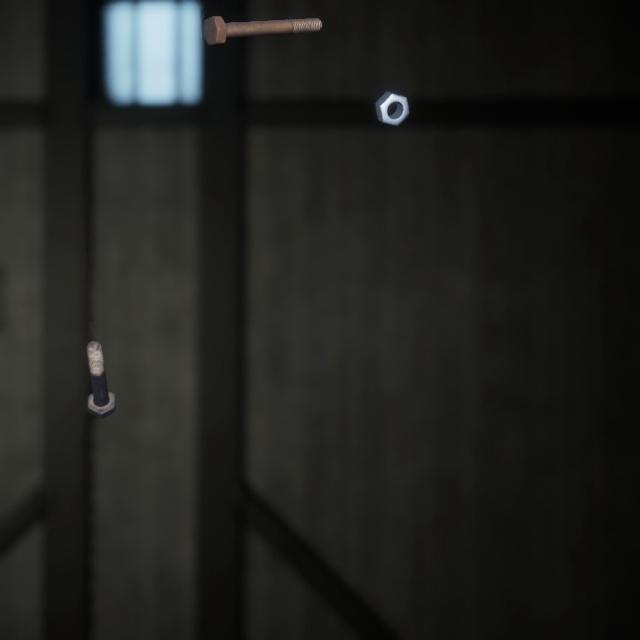bolt: (198, 2, 326, 41), (82, 317, 120, 404)
nut: (370, 75, 413, 119)
